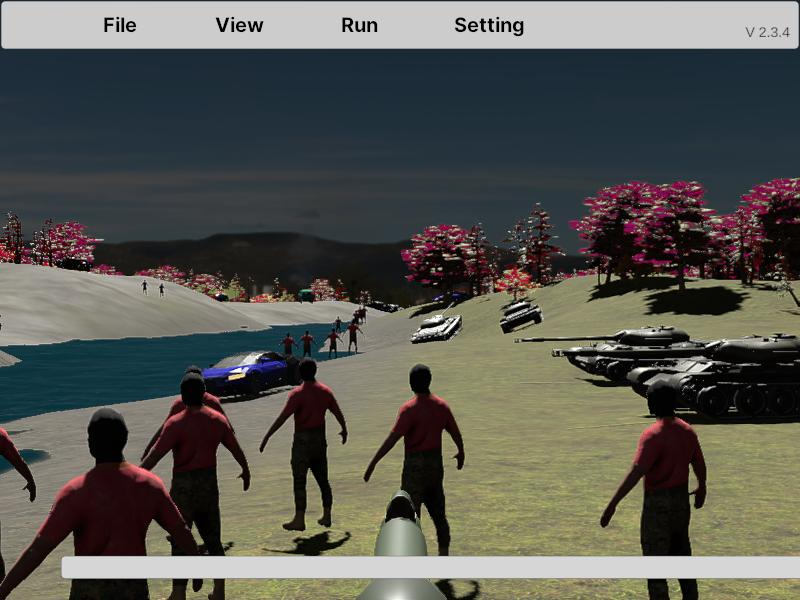Human: (0, 405, 206, 600), (136, 371, 251, 596), (600, 376, 708, 600), (362, 362, 466, 564), (259, 356, 349, 533), (0, 353, 38, 600)
Tank: (546, 331, 800, 424), (518, 323, 733, 384), (410, 298, 462, 345), (500, 295, 543, 333)
car: (184, 349, 304, 397)
